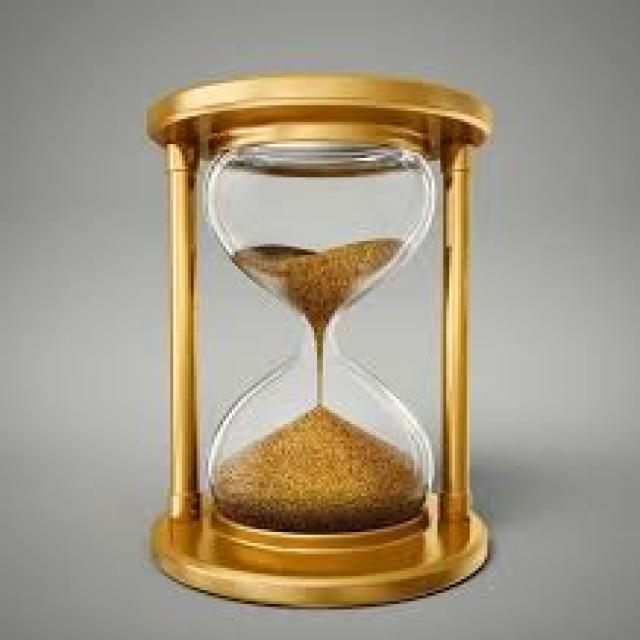clock: (133, 66, 520, 607)
